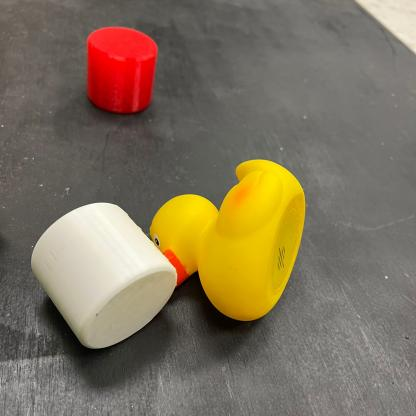duck: (148, 156, 309, 324)
red cylinder: (86, 26, 159, 116)
white cylinder: (29, 200, 180, 351)
